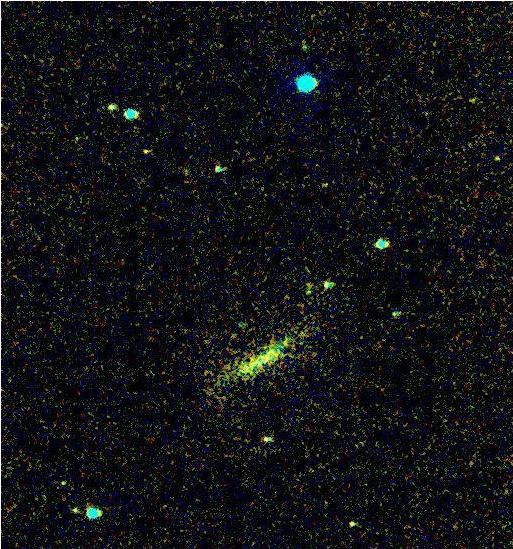star: (338, 509, 368, 539)
